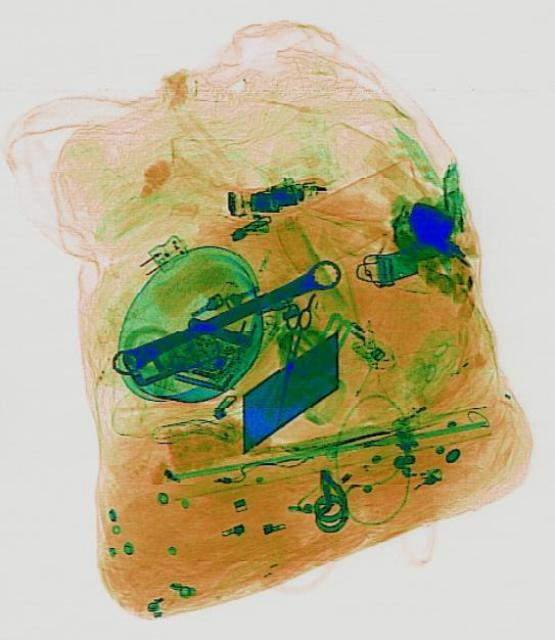Wrench: (105, 252, 344, 380)
